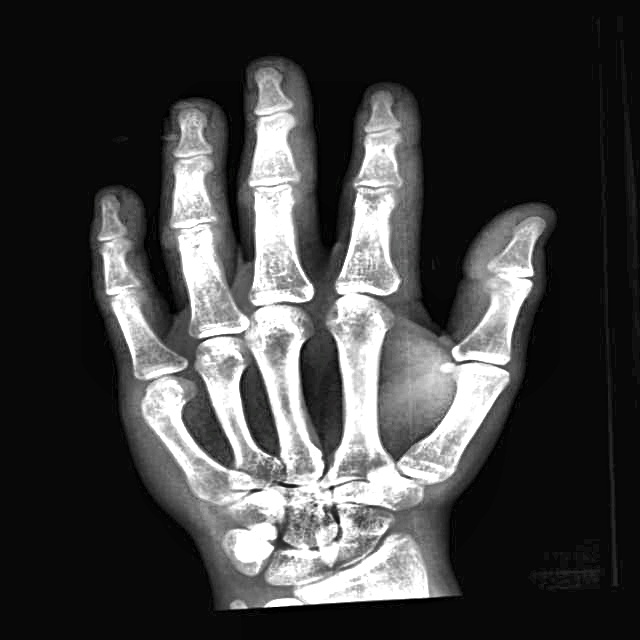Healthy: (92, 141, 525, 603)
